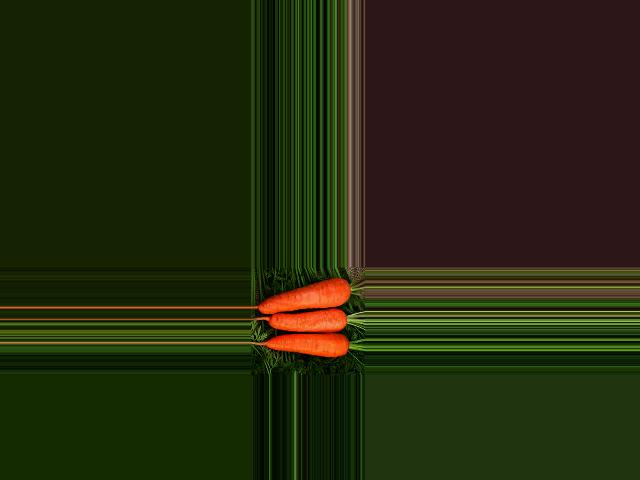carrot: (257, 276, 351, 314)
